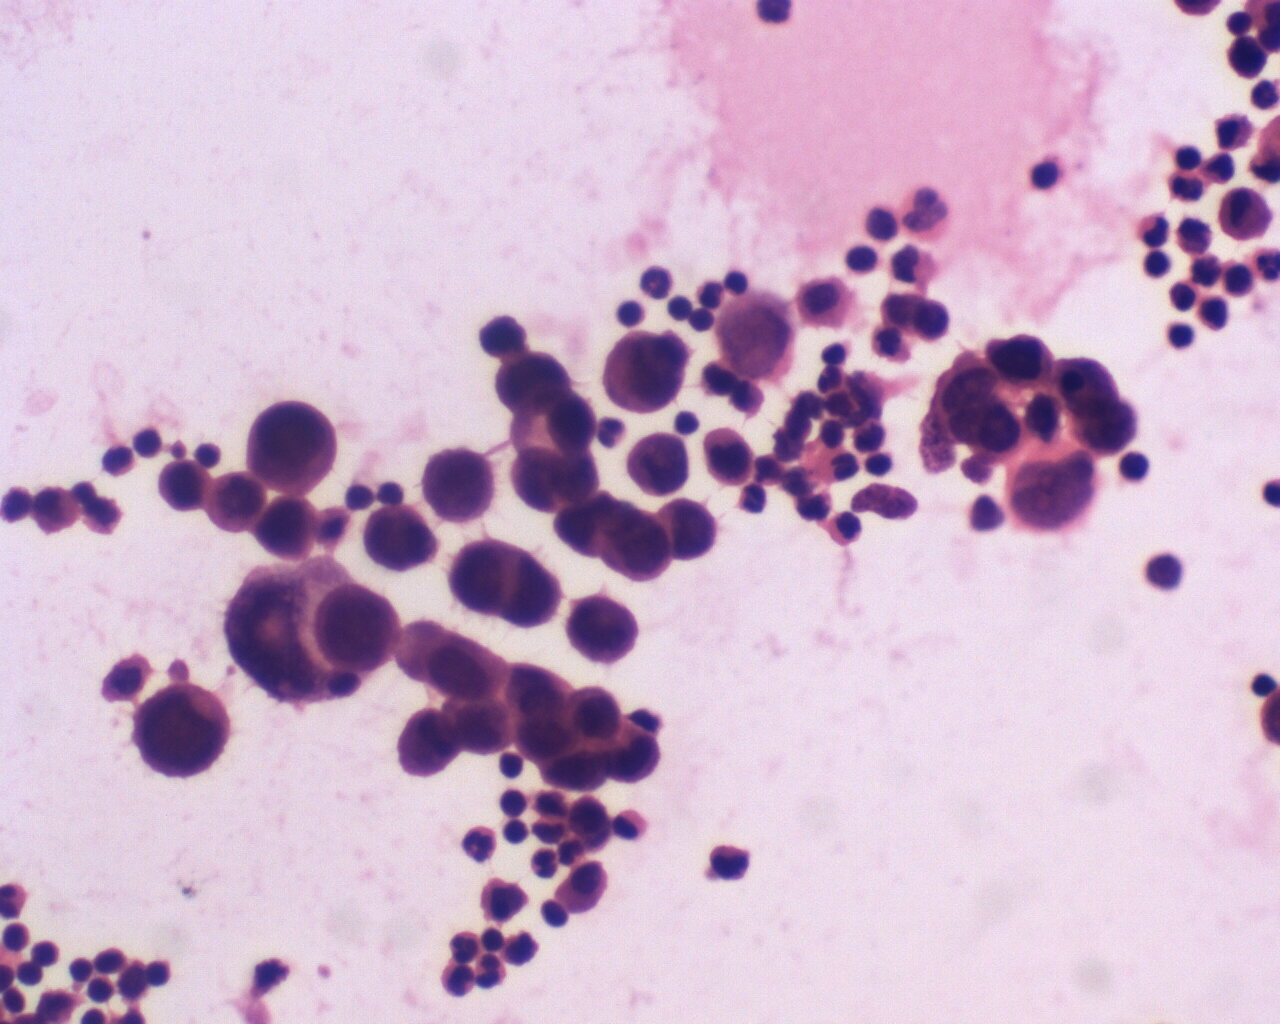ab: (449, 538, 564, 633), (395, 615, 513, 707), (133, 680, 233, 779), (245, 394, 338, 498), (313, 583, 403, 677), (599, 325, 689, 417), (417, 444, 499, 525), (591, 504, 669, 587), (566, 590, 641, 672), (393, 705, 463, 781), (364, 504, 440, 573), (490, 353, 573, 415), (255, 492, 324, 563), (624, 428, 693, 499), (653, 493, 720, 566), (986, 327, 1057, 393), (561, 681, 627, 747), (206, 470, 266, 537), (699, 422, 760, 487), (158, 459, 213, 514)
lymph: (1163, 318, 1197, 357), (1115, 447, 1154, 482), (24, 936, 66, 967), (612, 295, 648, 330), (1143, 248, 1177, 279)
meso: (794, 270, 860, 335)
neutro: (458, 820, 499, 866), (522, 844, 560, 885), (447, 925, 479, 962)
